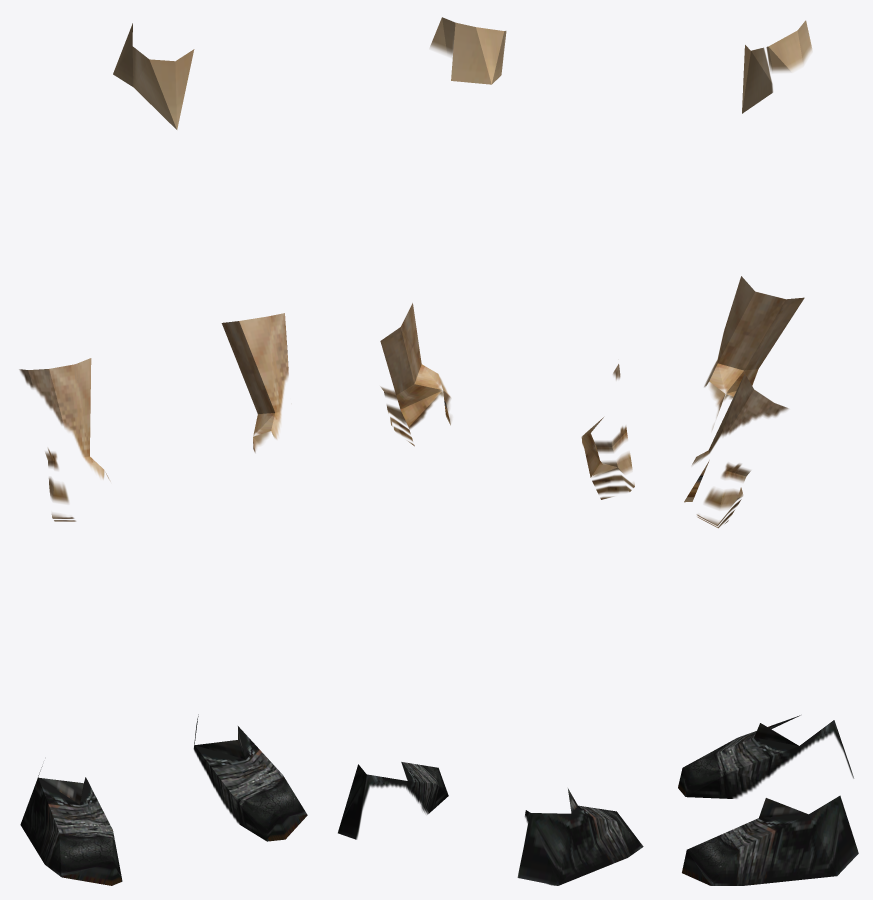
File: Armor_Judge.glb
The picture shows the model from 3 angles, left to right: view 1: azimuth 30°, elevation 25°; view 2: azimuth 150°, elevation 25°; view 3: azimuth 270°, elevation 25°; orthographic projection. The views are drawn at different scales.
Parts seen in each view (by area): view 1: Armor_Judgezm_Body; view 2: Armor_Judgezm_Body; view 3: Armor_Judgezm_Body.
Boxes of the visible parts, <box> form: Armor_Judgezm_Body: <box>19,23,307,885</box>; Armor_Judgezm_Body: <box>338,17,643,885</box>; Armor_Judgezm_Body: <box>678,20,858,885</box>.
Bounding box in the file's own units: 0.5631 × 1.66 × 0.3429.
Materials: 1 (1 with a texture image).
